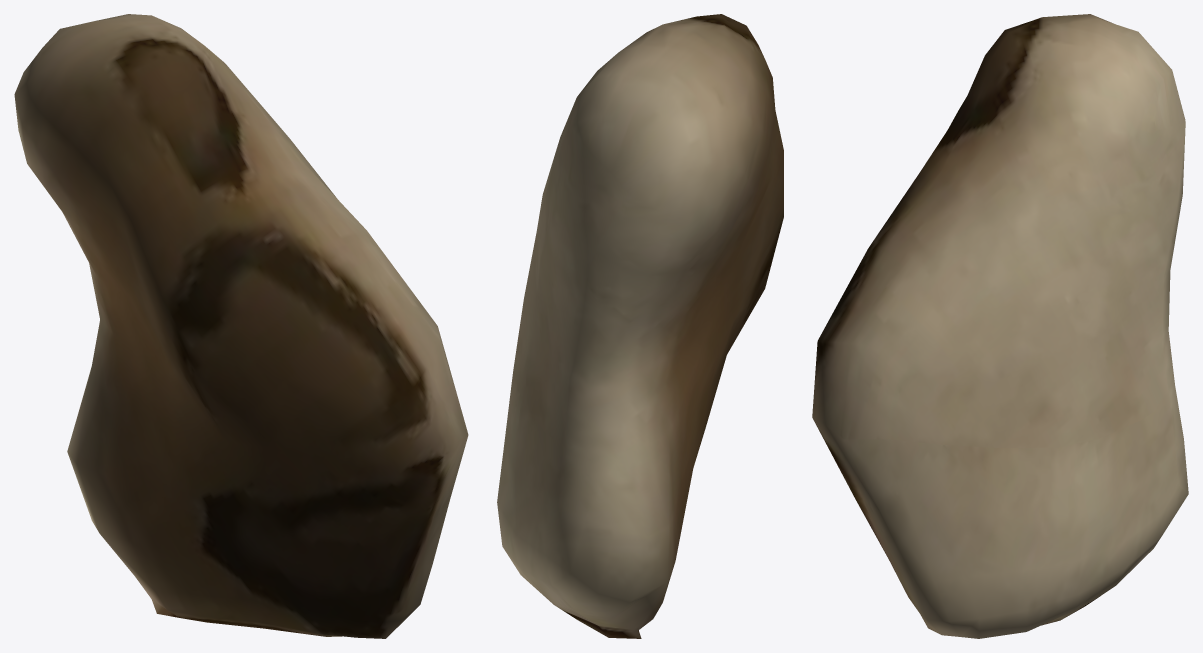
Rendered from Tarsal_I.glb.
3 renders of one model, left to right at view 1: azimuth 30°, elevation 25°; view 2: azimuth 150°, elevation 25°; view 3: azimuth 270°, elevation 25°, orthographic. The views are drawn at different scales.
Parts seen in each view (by area): view 1: Tarsal_I_Right1:Group13918; view 2: Tarsal_I_Right1:Group13918; view 3: Tarsal_I_Right1:Group13918.
Part boxes in pixels (x1=…): Tarsal_I_Right1:Group13918: x1=14, y1=14, x2=468, y2=638; Tarsal_I_Right1:Group13918: x1=497, y1=14, x2=783, y2=638; Tarsal_I_Right1:Group13918: x1=812, y1=14, x2=1188, y2=638.
Bounding box in the file's own units: 6.23 × 12 × 7.56.
1 material, 1 textured.
